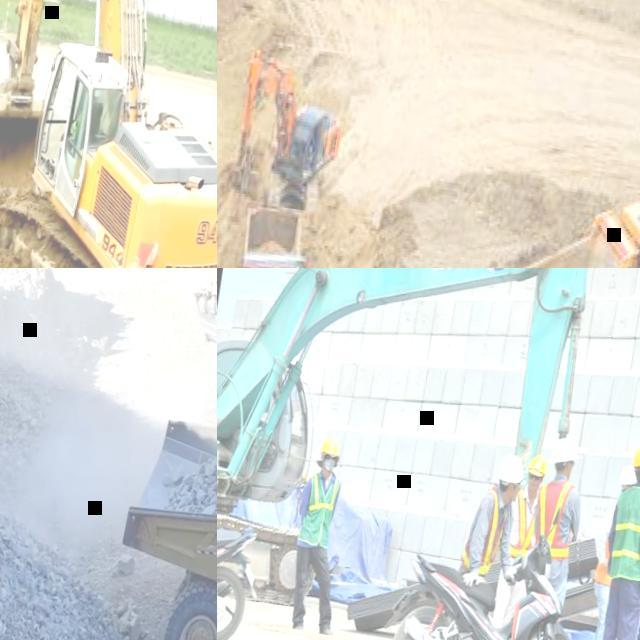helmet: (550, 435, 580, 466), (498, 453, 528, 482), (528, 454, 550, 478), (620, 466, 640, 489), (320, 437, 341, 457), (635, 444, 640, 468)
vest: (458, 482, 513, 580), (531, 477, 582, 561), (607, 482, 640, 581), (298, 472, 340, 546), (506, 484, 544, 561), (593, 536, 618, 588), (73, 111, 82, 132)
